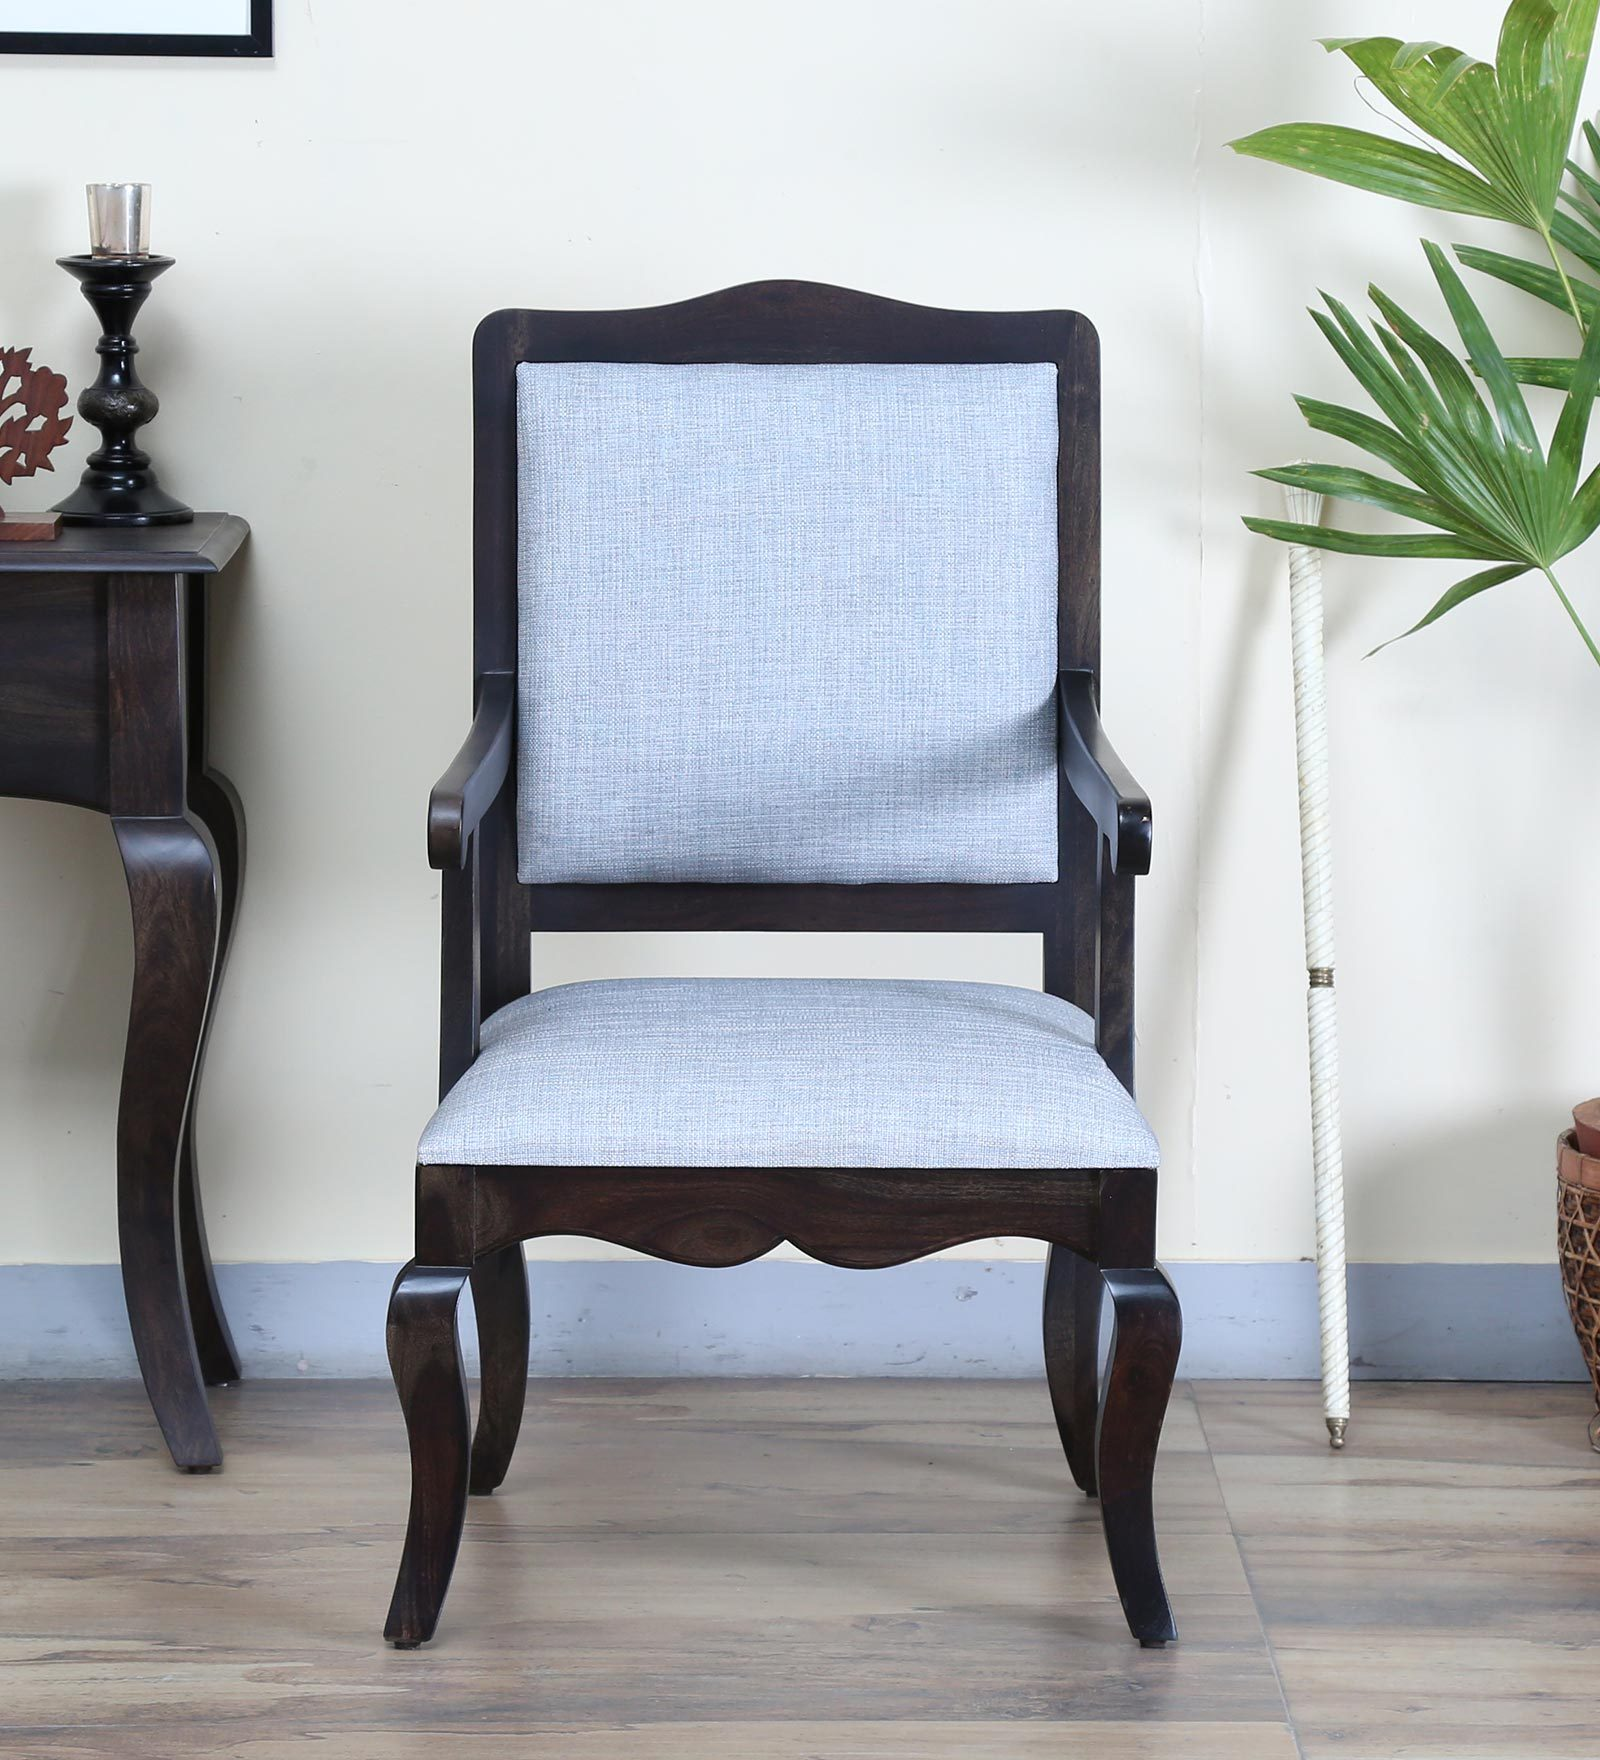Anne Arm Chair in Warm Chestnut Finish by Amberville: (379, 254, 1189, 1680)
